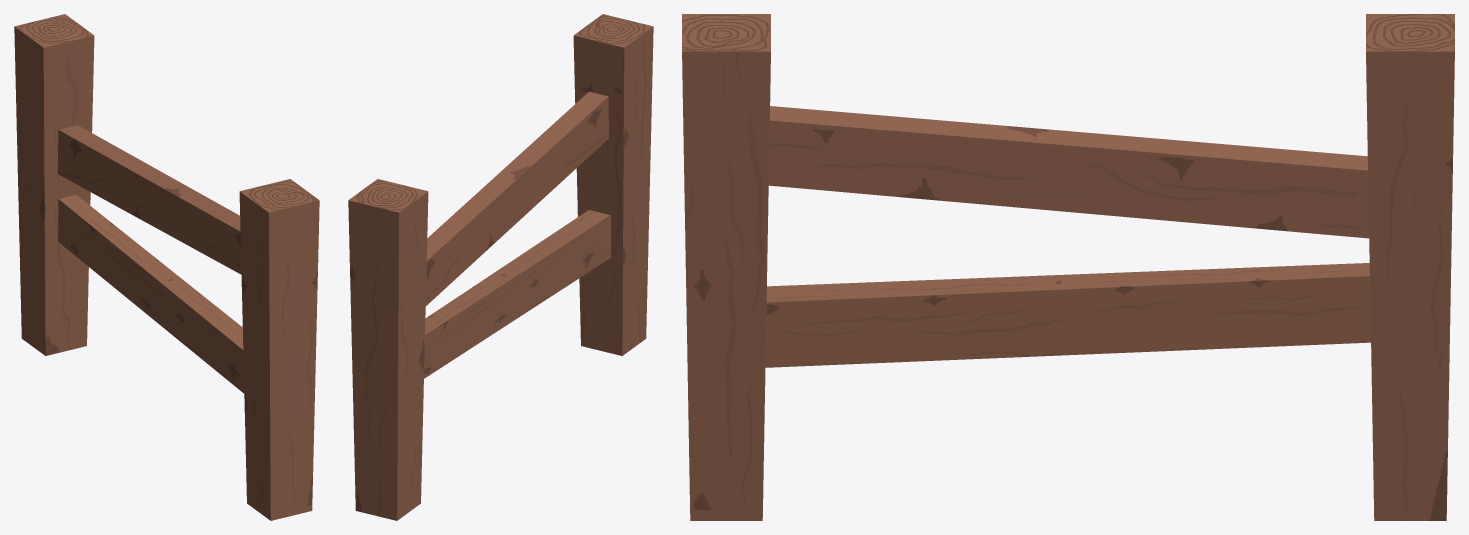
Rendered from brkn-fence-full1.fbx.
The picture shows the model from 3 angles, left to right: view 1: azimuth 30°, elevation 25°; view 2: azimuth 150°, elevation 25°; view 3: azimuth 270°, elevation 25°; orthographic projection. The views are drawn at different scales.
Visible parts, largest first — view 1: Cube; view 2: Cube; view 3: Cube.
Part boxes in pixels (x1,y1,x2,y2): Cube: (14,14,319,520); Cube: (348,14,653,520); Cube: (682,14,1454,520).
Bounding box in the file's own units: 70.42 × 413 × 611.
